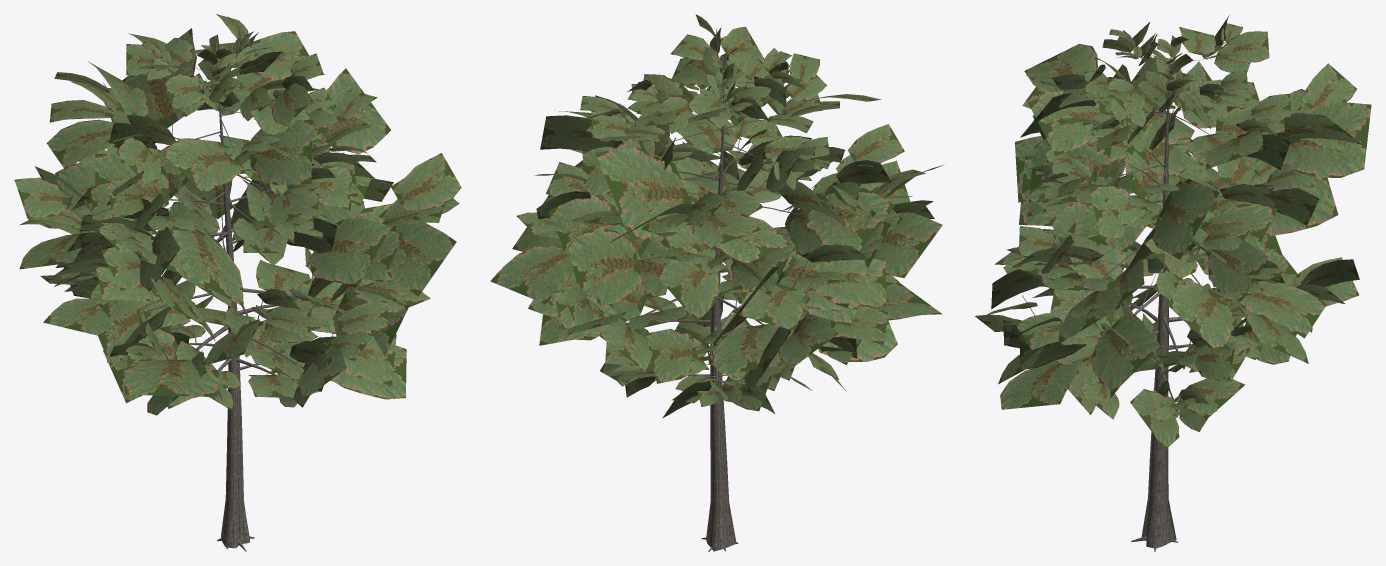
The model's file is EasternWhitePine.fbx.
3 renders of one model, left to right at view 1: azimuth 30°, elevation 25°; view 2: azimuth 150°, elevation 25°; view 3: azimuth 270°, elevation 25°, orthographic.
Parts seen in each view (by area): view 1: Foliage, Bark; view 2: Foliage, Bark; view 3: Foliage, Bark.
Part boxes in pixels (left/top/right/bottom): Foliage: left=14, top=14, right=461, bottom=415; Bark: left=57, top=29, right=408, bottom=551; Foliage: left=490, top=14, right=943, bottom=418; Bark: left=578, top=28, right=892, bottom=551; Foliage: left=975, top=15, right=1371, bottom=449; Bark: left=1022, top=33, right=1319, bottom=551.
Size of the model in its own units: 19.6 by 25.2 by 17.99.
